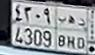0: (34, 13, 42, 47)
3: (24, 6, 33, 46)
4: (14, 4, 23, 44)
9: (43, 7, 52, 48)
B: (57, 15, 66, 47)
D: (77, 18, 85, 50)
H: (67, 14, 76, 49)
